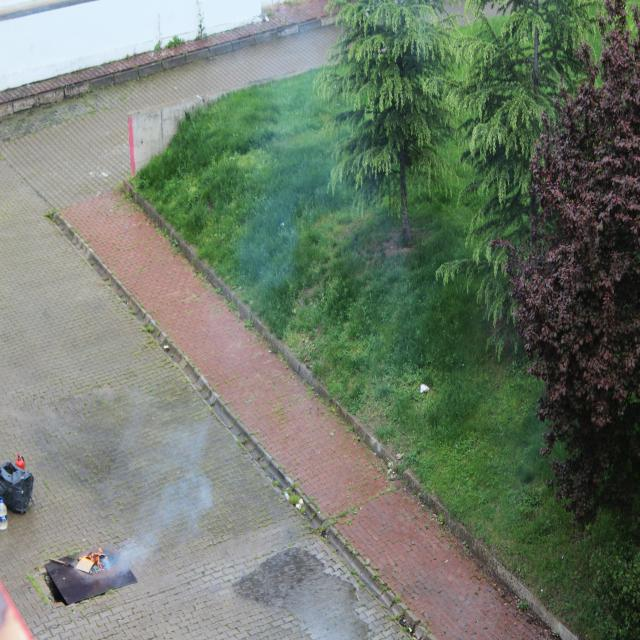fire: (77, 546, 107, 566)
